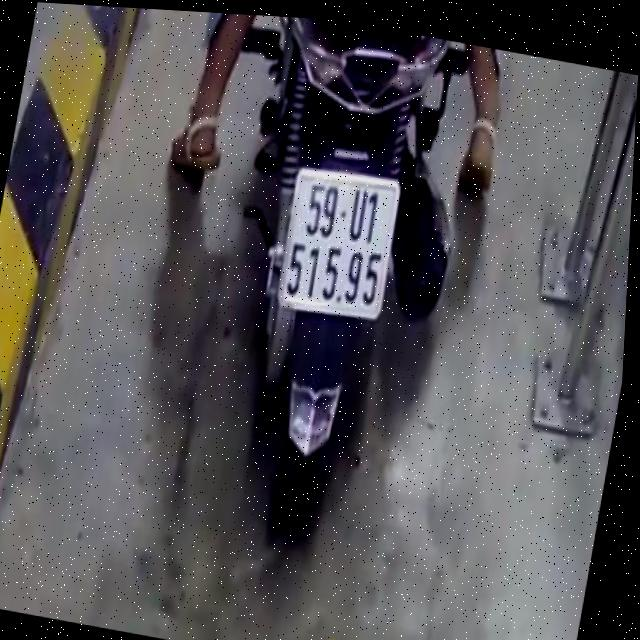motorcycle: (170, 12, 496, 584)
plate: (269, 160, 410, 332)
